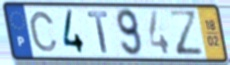4: (62, 8, 87, 56), (149, 9, 172, 57)
9: (115, 7, 145, 59)
C: (28, 10, 60, 54)
T: (85, 10, 109, 55)
Z: (166, 9, 206, 58)
